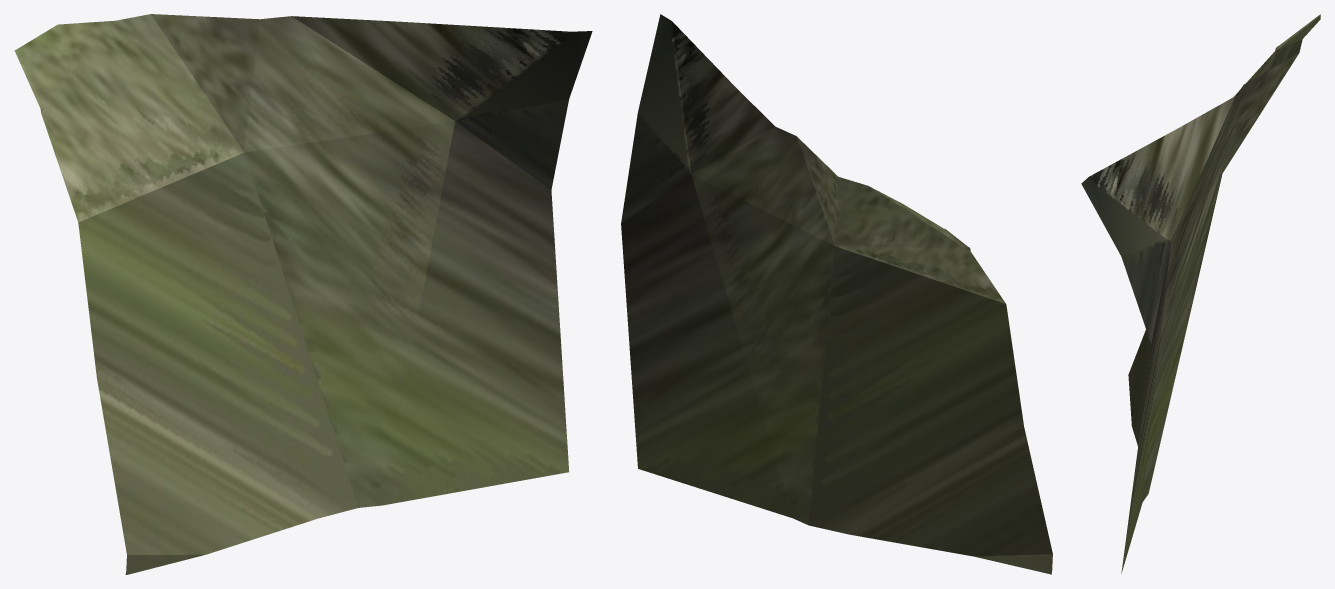
The picture shows the model from 3 angles, left to right: view 1: azimuth 30°, elevation 25°; view 2: azimuth 150°, elevation 25°; view 3: azimuth 270°, elevation 25°; orthographic projection. The views are drawn at different scales.
Size of the model in its own units: 2.95 by 2.95 by 1.64.
Materials: 3 (3 with a texture image).
